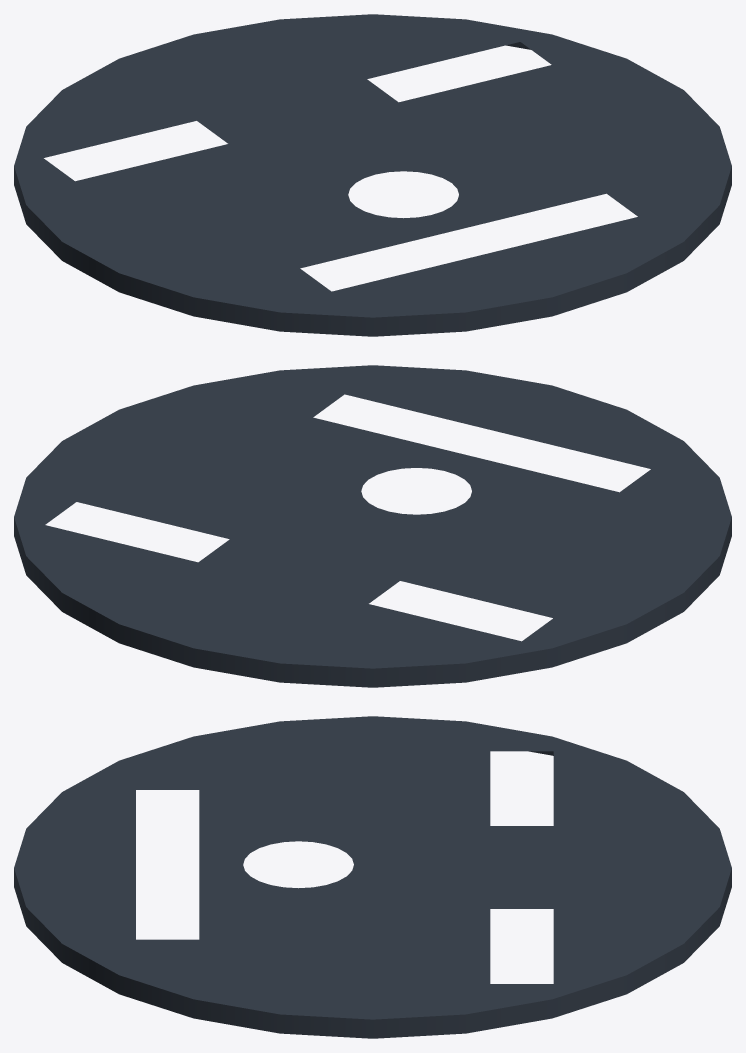
File: original-11.obj
3 renders of one model, top to bottom at view 1: azimuth 30°, elevation 25°; view 2: azimuth 150°, elevation 25°; view 3: azimuth 270°, elevation 25°, orthographic.
Visible parts, largest first — view 1: #ID78; view 2: #ID78; view 3: #ID78.
Part boxes in pixels (<box>): #ID78: <box>14,14,731,336</box>; #ID78: <box>14,365,731,687</box>; #ID78: <box>14,716,731,1038</box>.
Size of the model in its own units: 0.2876 by 0.00846 by 0.2876.
